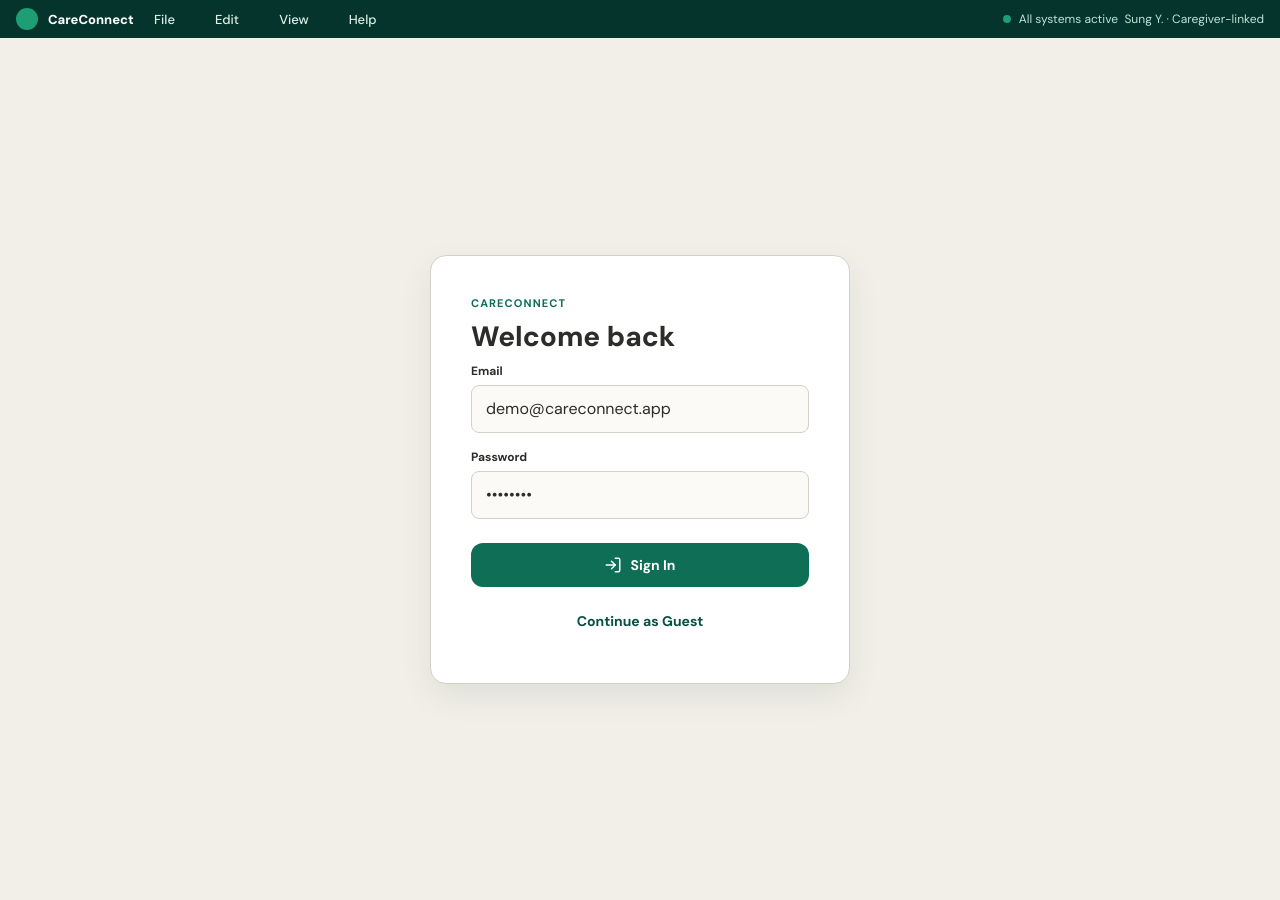
LoginScreen › continues as guest without credentials
This screenshot has width=1280, height=900.
Click the button "Continue as Guest": (640, 620) [471,598,809,642]
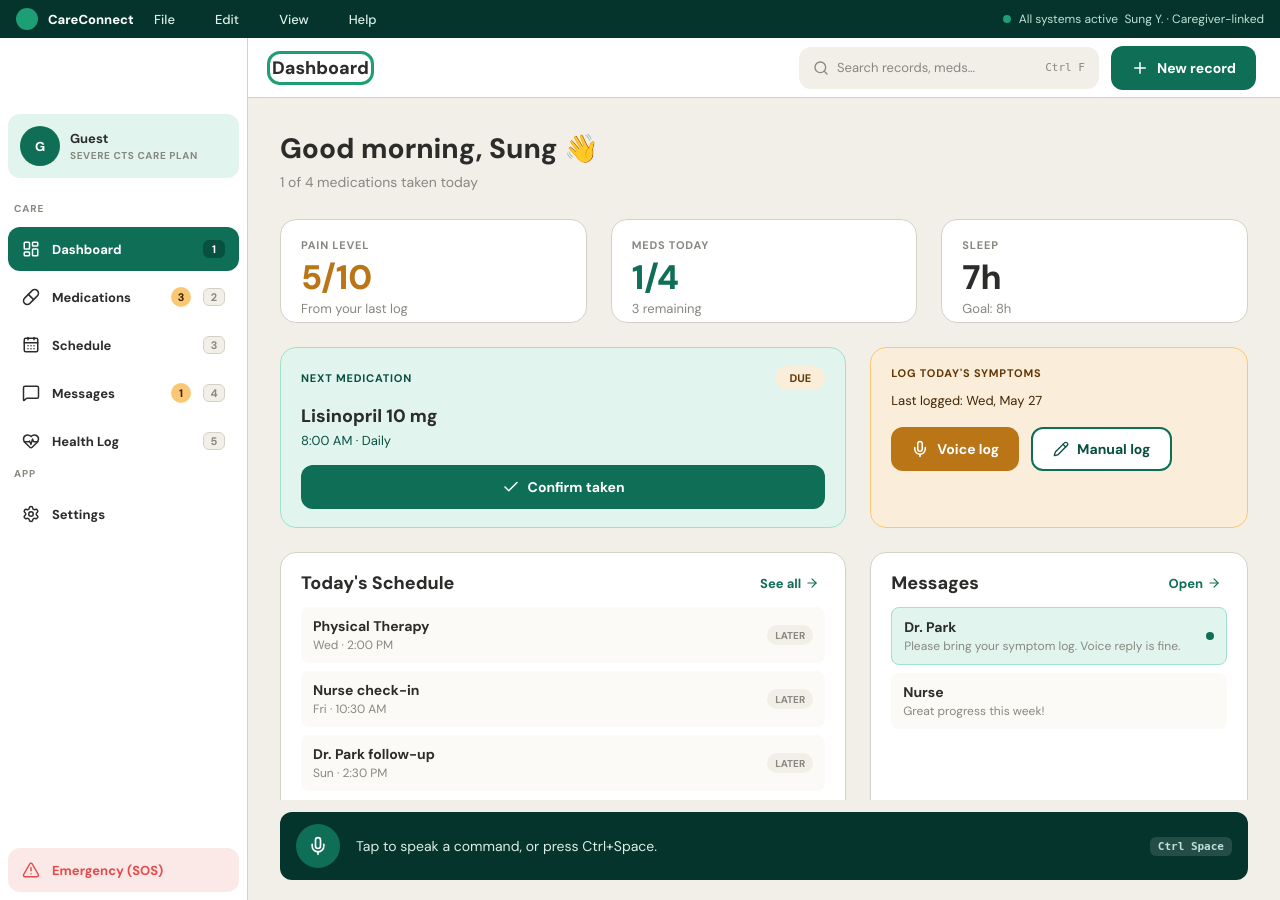
Check: the heading "Dashboard" is shown, box [272,56,369,80]
